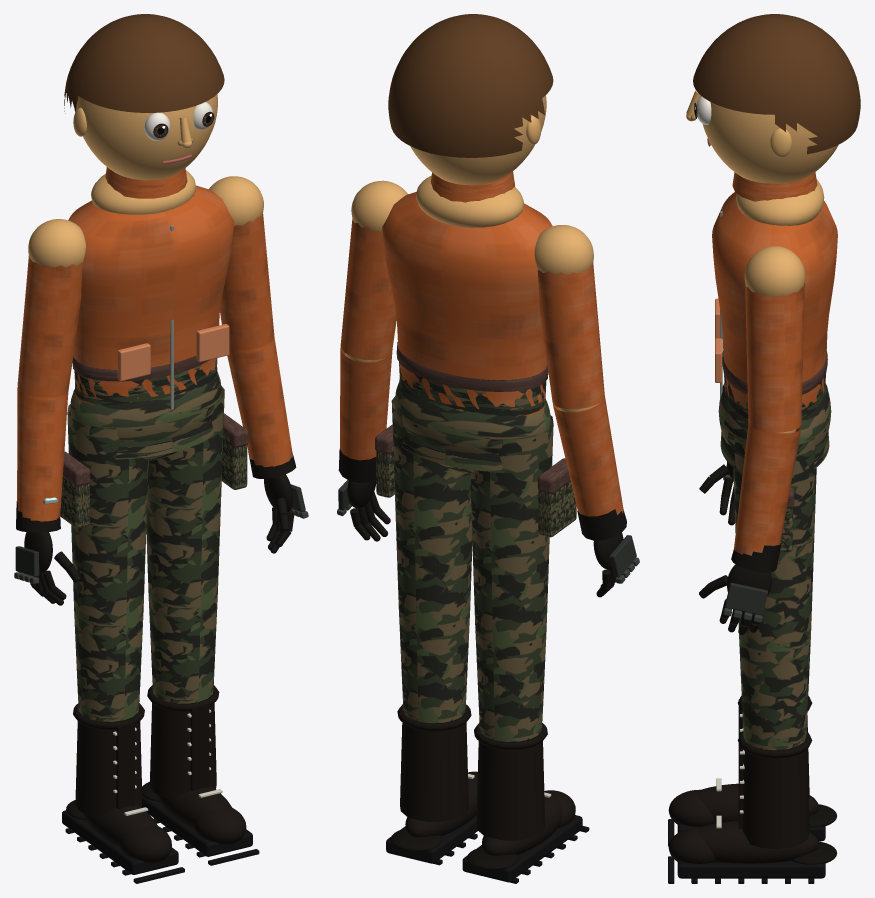
Rendered from 03-montre.glb.
3 views of the same model, side by side, from view 1: azimuth 30°, elevation 25°; view 2: azimuth 150°, elevation 25°; view 3: azimuth 270°, elevation 25° (orthographic). The views are drawn at different scales.
Size of the model in its own units: 0.6344 by 1.77 by 0.3715.
28 materials, 4 textured.
